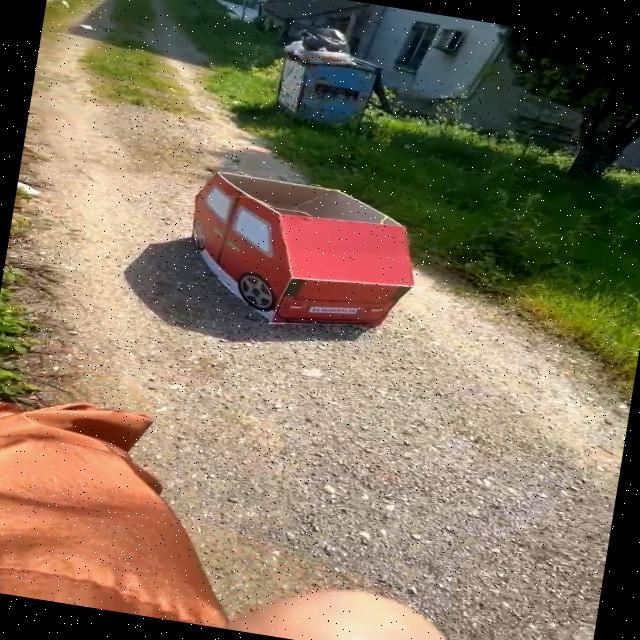red_car: (152, 151, 434, 381)
